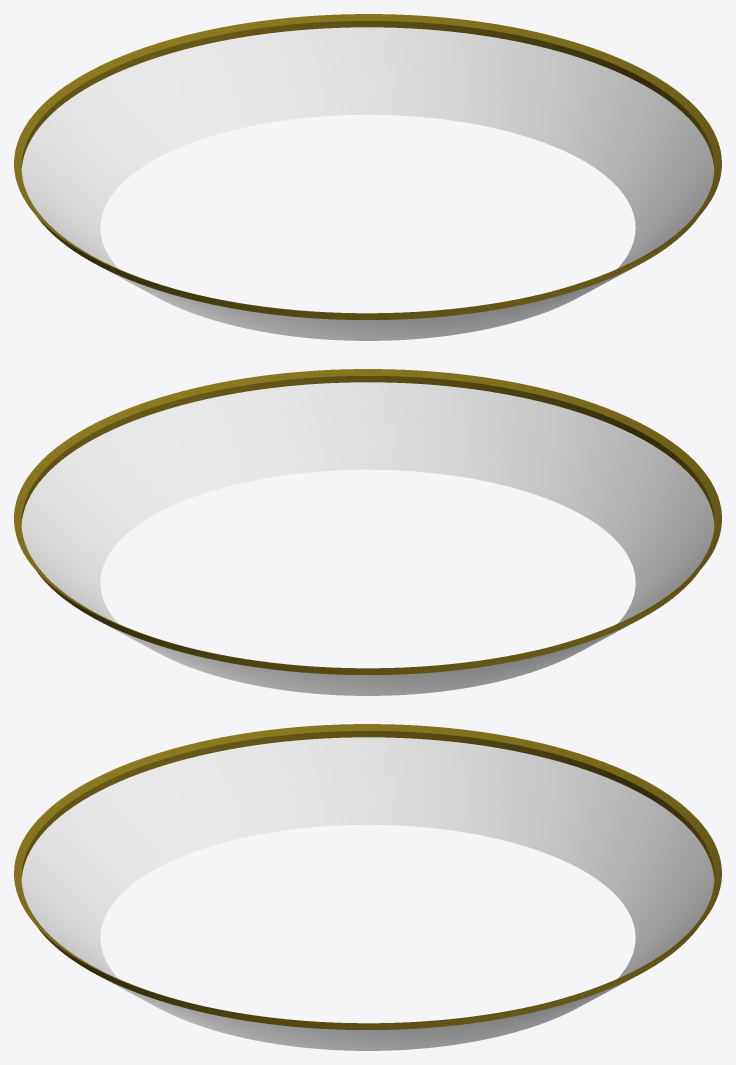
The model's file is RouletteCircle.fbx.
The picture shows the model from 3 angles, top to bottom: view 1: azimuth 30°, elevation 25°; view 2: azimuth 150°, elevation 25°; view 3: azimuth 270°, elevation 25°; orthographic projection.
Parts seen in each view (by area): view 1: Circle.002; view 2: Circle.002; view 3: Circle.002.
Boxes of the visible parts, left/top/right/bottom form: Circle.002: left=14, top=14, right=721, bottom=340; Circle.002: left=14, top=369, right=721, bottom=695; Circle.002: left=14, top=724, right=721, bottom=1050.
Bounding box in the file's own units: 331 × 33.15 × 331.
